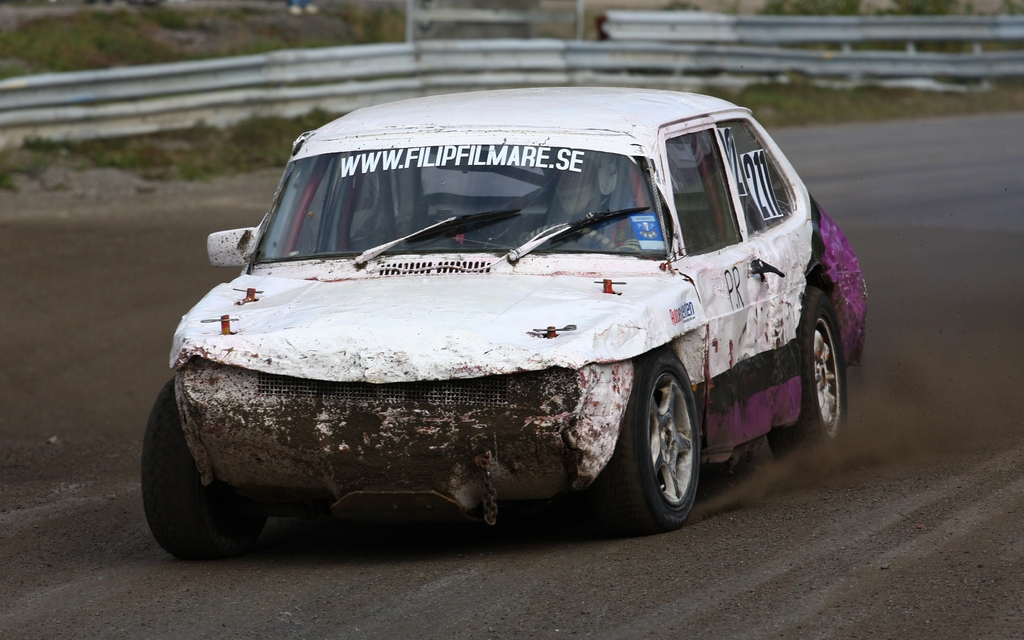Car: (132, 87, 847, 562)
